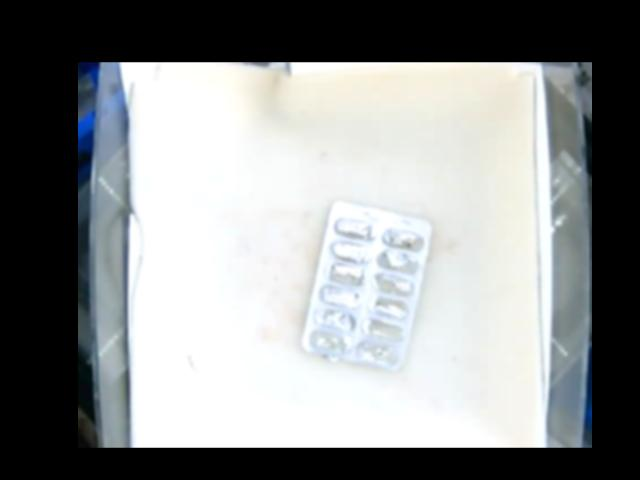Medicine: (300, 201, 436, 369)
